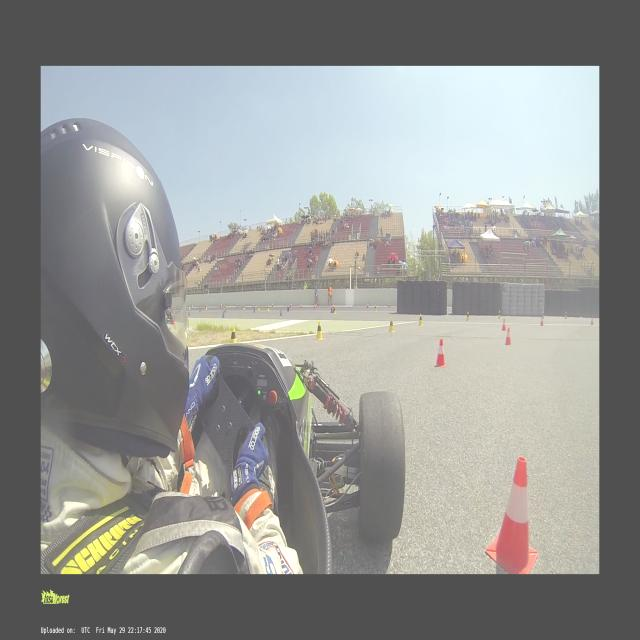blue_cone: (222, 312, 225, 318), (253, 307, 256, 313), (280, 308, 282, 316), (188, 310, 190, 316), (224, 308, 226, 312), (200, 308, 200, 312)
orange_cone: (484, 456, 544, 574), (433, 339, 448, 368), (506, 327, 512, 345), (502, 319, 506, 331), (540, 315, 544, 326), (591, 316, 594, 324), (252, 302, 255, 308), (290, 302, 292, 308), (314, 303, 316, 309), (367, 303, 369, 309), (388, 302, 390, 307), (272, 302, 274, 307), (300, 304, 302, 308), (236, 303, 238, 307), (220, 304, 222, 308), (192, 304, 192, 308)
yellow_cone: (314, 320, 324, 340), (230, 326, 236, 344), (388, 318, 394, 332), (419, 314, 423, 326), (466, 312, 469, 322), (498, 311, 501, 319), (223, 304, 226, 310), (565, 311, 567, 319), (334, 306, 336, 314), (243, 304, 245, 310), (374, 305, 376, 311), (266, 305, 268, 311), (258, 304, 260, 310), (205, 305, 207, 310), (188, 306, 190, 310)
